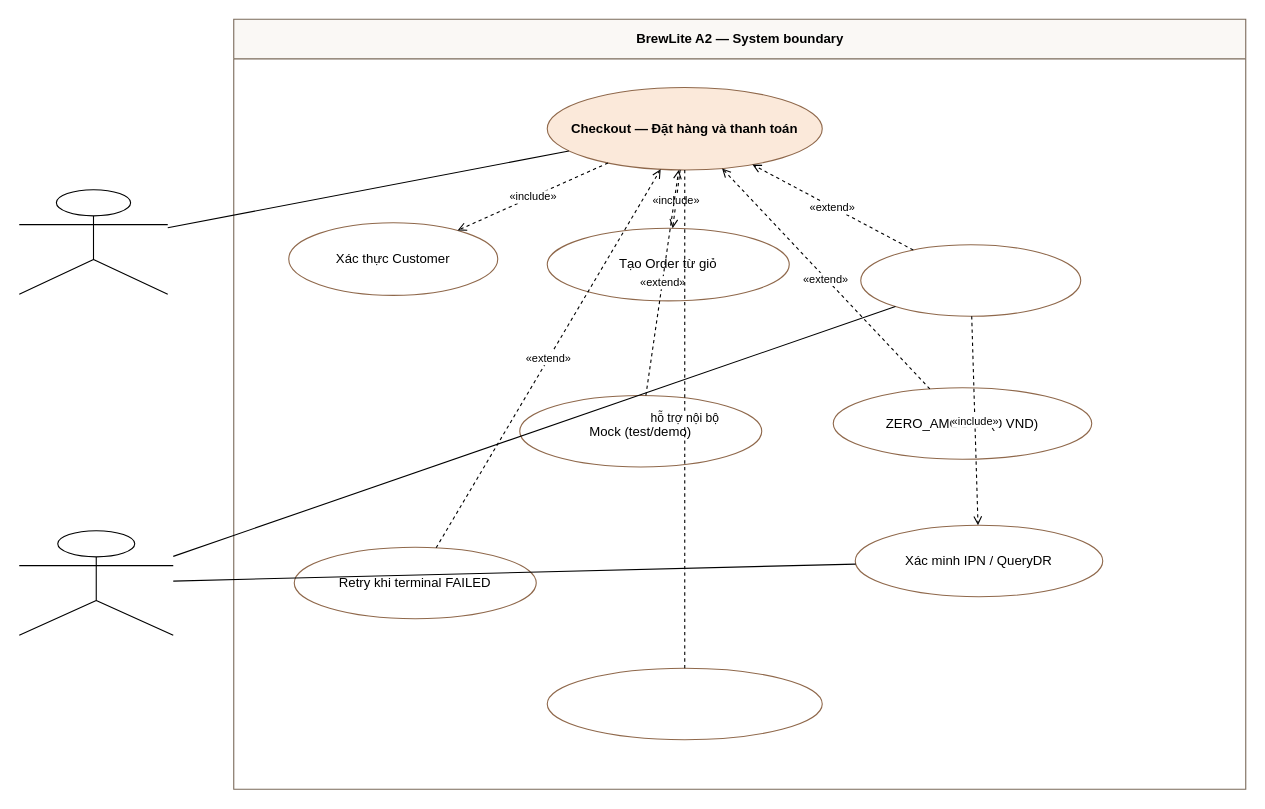
This 1265x809 diagram has some shape labels left out. The shapes that lost their labels are listed below. From the top down, each one's centre as x and y in pixels, then its label:
At pixel 93 241: "Customer".
At pixel 970 280: "Khởi tạo VNPay".
At pixel 95 582: "VNPay Sandbox".
At pixel 684 703: "Hết hạn / đối soát (nội bộ)".
